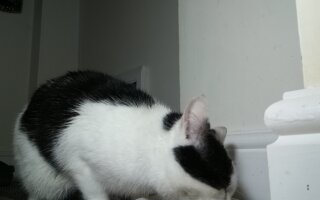bad: (11, 69, 241, 198)
